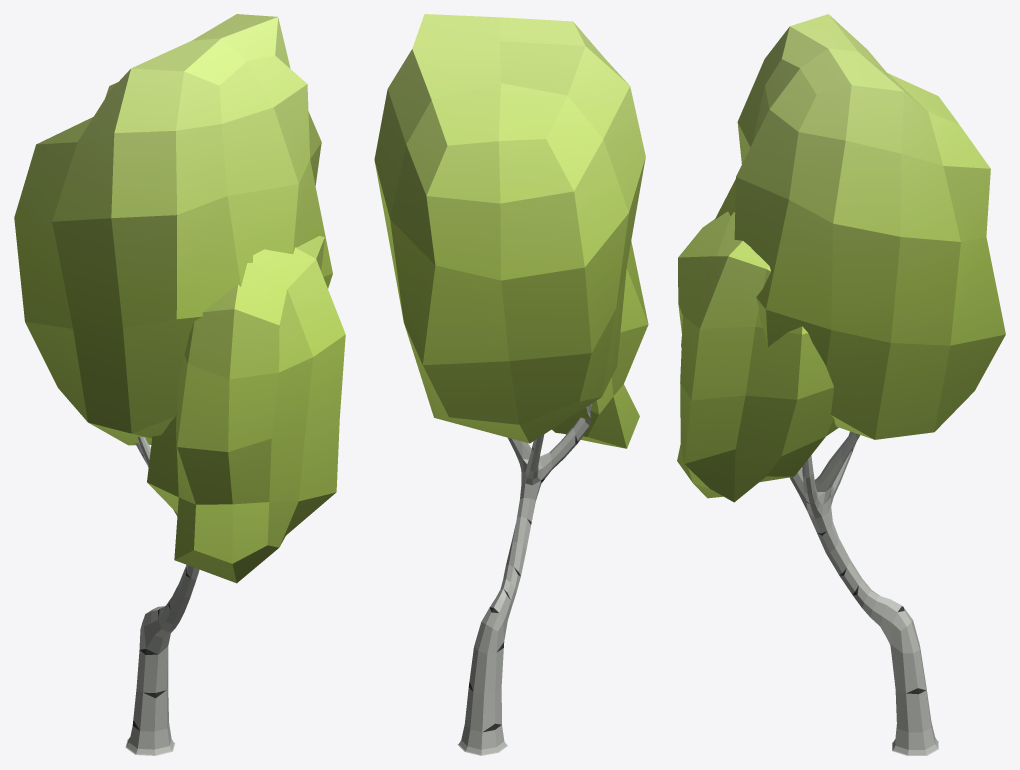
Rendered from BirchTree2.fbx.
3 renders of one model, left to right at view 1: azimuth 30°, elevation 25°; view 2: azimuth 150°, elevation 25°; view 3: azimuth 270°, elevation 25°, orthographic. The views are drawn at different scales.
Parts seen in each view (by area): view 1: Leaves, Wood; view 2: Leaves, Wood; view 3: Leaves, Wood.
Boxes of the visible parts, left/top/right/bottom form: Leaves: left=14, top=14, right=345, bottom=583; Wood: left=125, top=437, right=199, bottom=755; Leaves: left=374, top=14, right=648, bottom=448; Wood: left=457, top=403, right=591, bottom=755; Leaves: left=677, top=14, right=1005, bottom=502; Wood: left=789, top=431, right=938, bottom=755.
Size of the model in its own units: 147 by 403 by 169.
